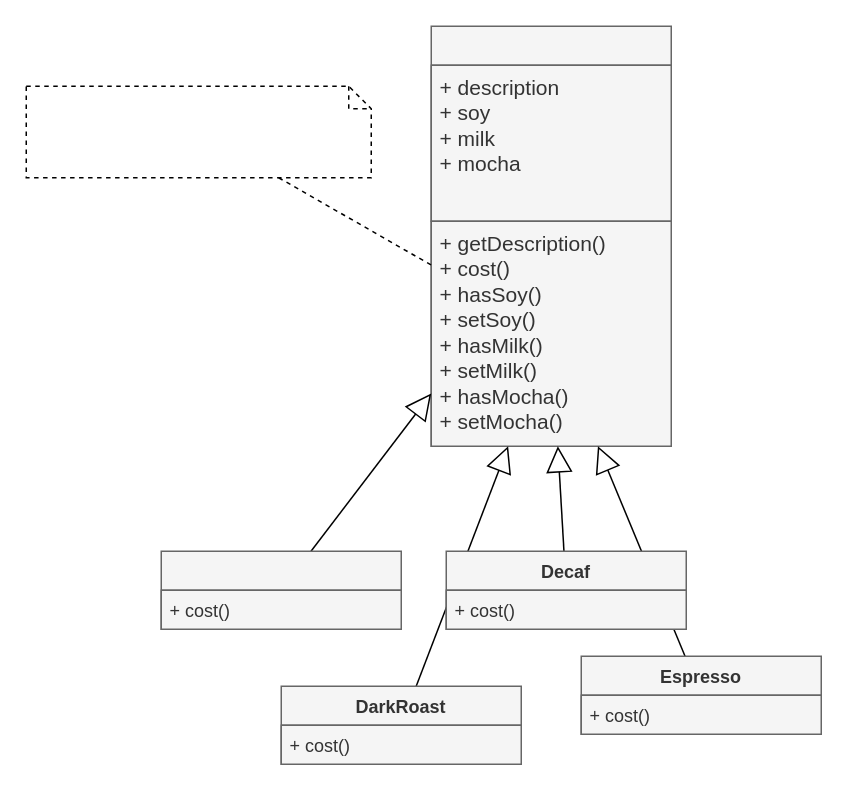
This 848x795 diagram has some shape labels left out. The shapes that lost their labels are listed below. From the top down, each one's box as (x1, y1, x2, y2) in pixels, then its label:
(25, 85, 371, 178): The cost() method will calculate the costs for all of the condiments.
(430, 25, 671, 446): Beverage
(160, 550, 401, 629): HouseBlend
